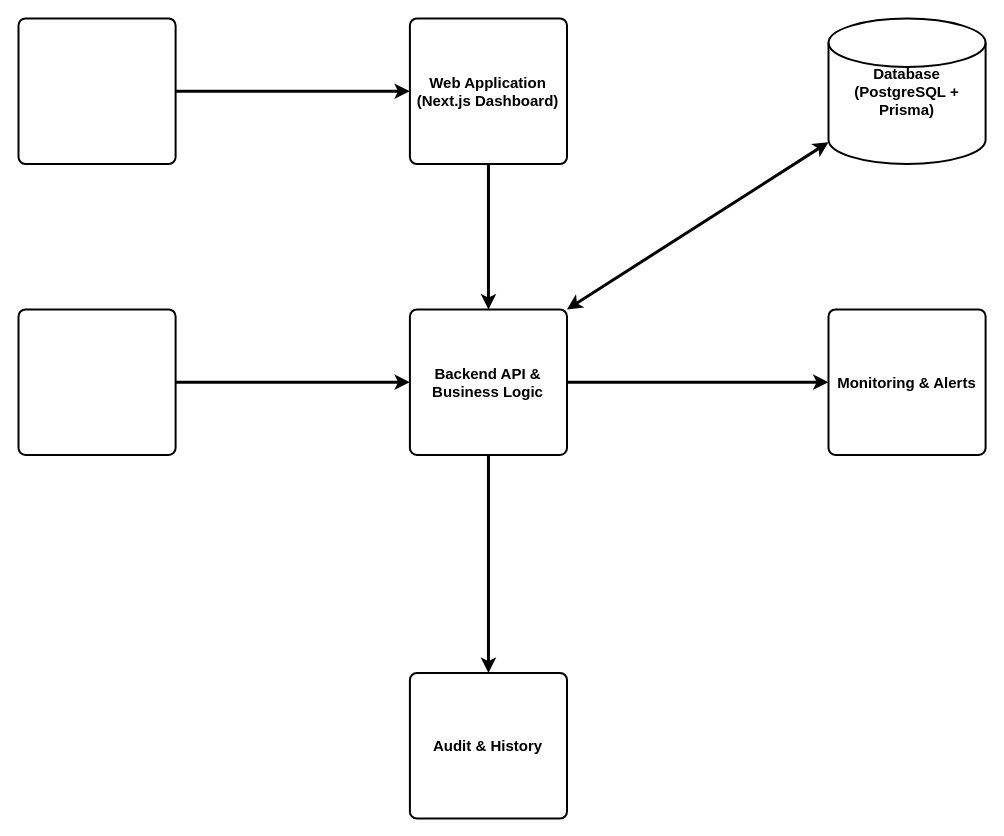
This 1004x836 diagram has some shape labels left out. The shapes that lost their labels are listed below. From the top down, each one's box as (x1, y1, x2, y2) in pixels, then its label:
(17, 17, 176, 164): Users / Administrators
(17, 308, 176, 455): ESP32 Prototype / Simulator
